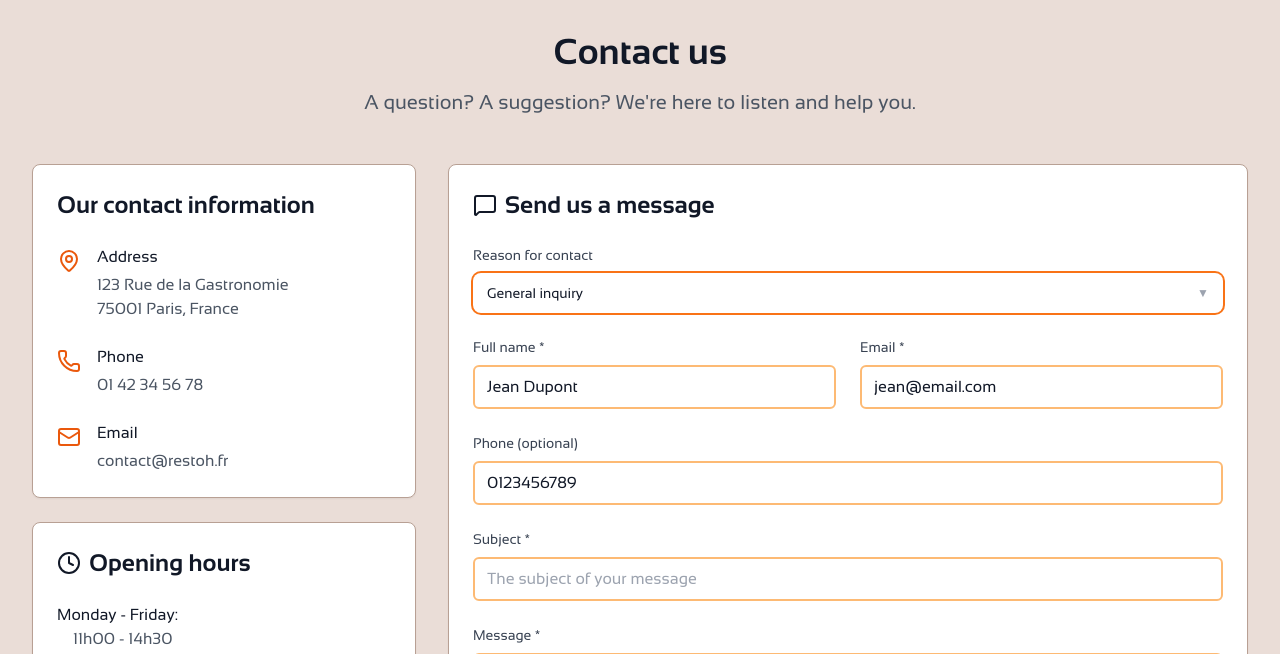
Test: Contact Component › should disable submit button when form is invalid
The width and height of the screenshot is (1280, 654).
Check: the field with placeholder "Your name" holds "Jean Dupont", box [473,365,836,409]
Type "Test subject" into the field with placeholder "The subject of your message" at (848, 579), box [473,557,1223,601]
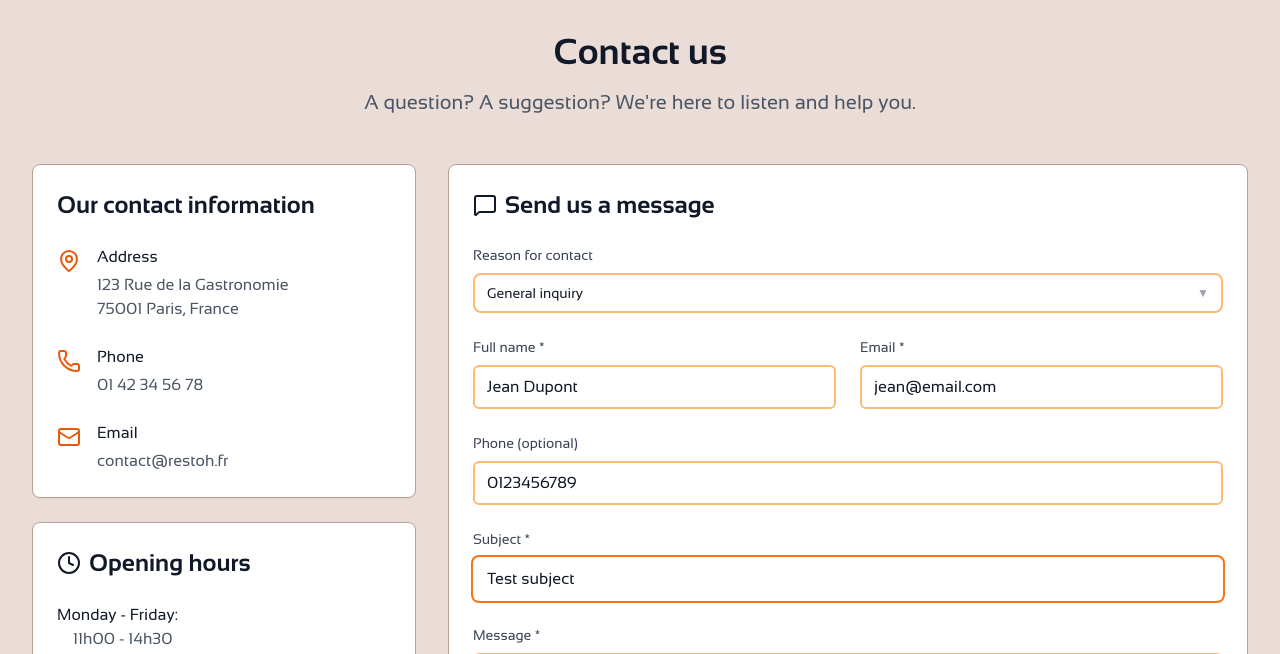
Press Tab
(page scrolled)
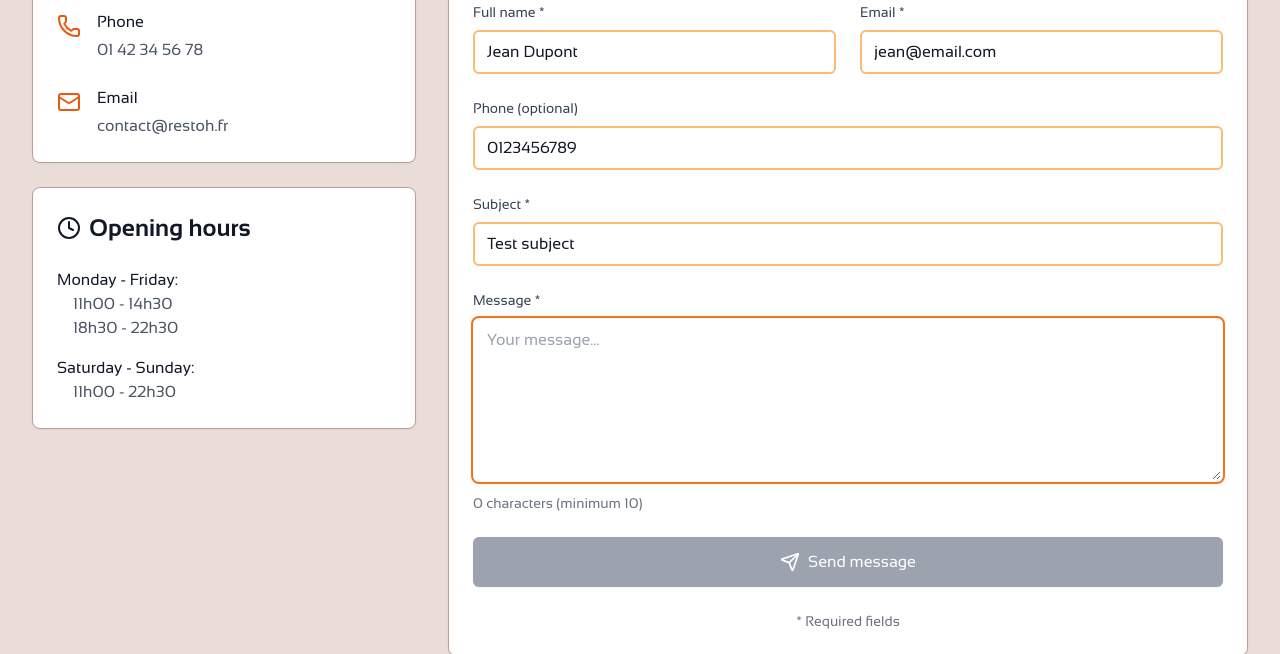
Type "Court" into the text box with placeholder "Your message..." at (848, 400), box [473,318,1223,482]
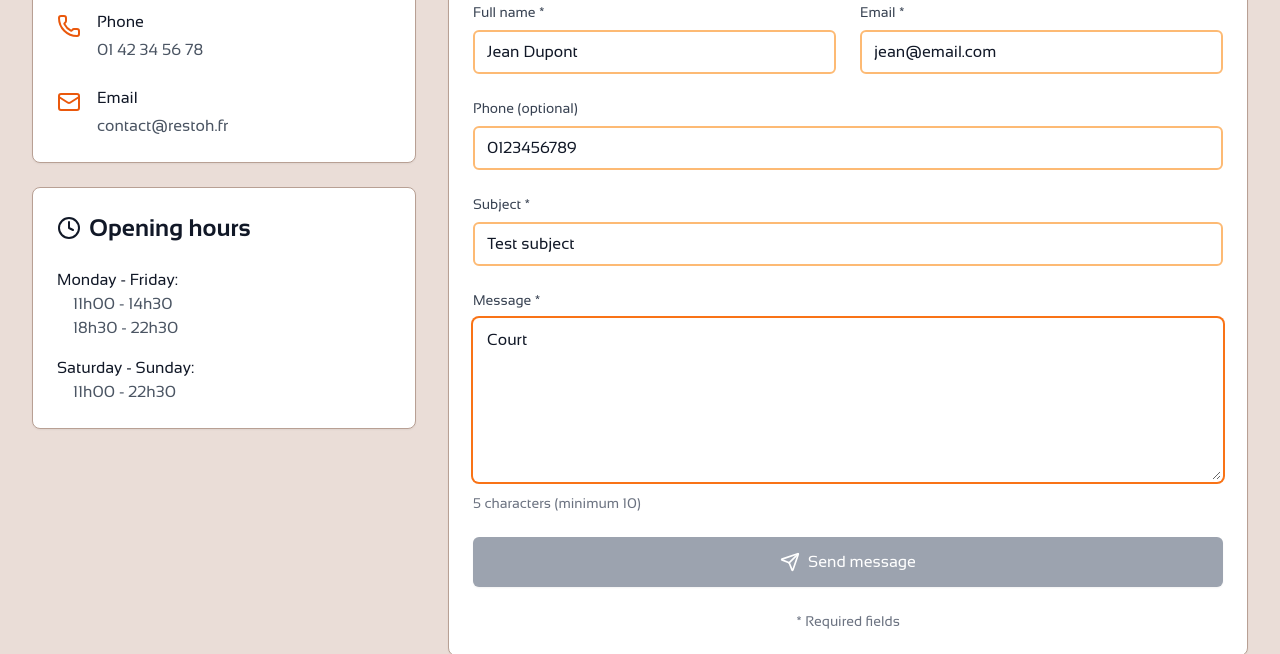
Press Tab
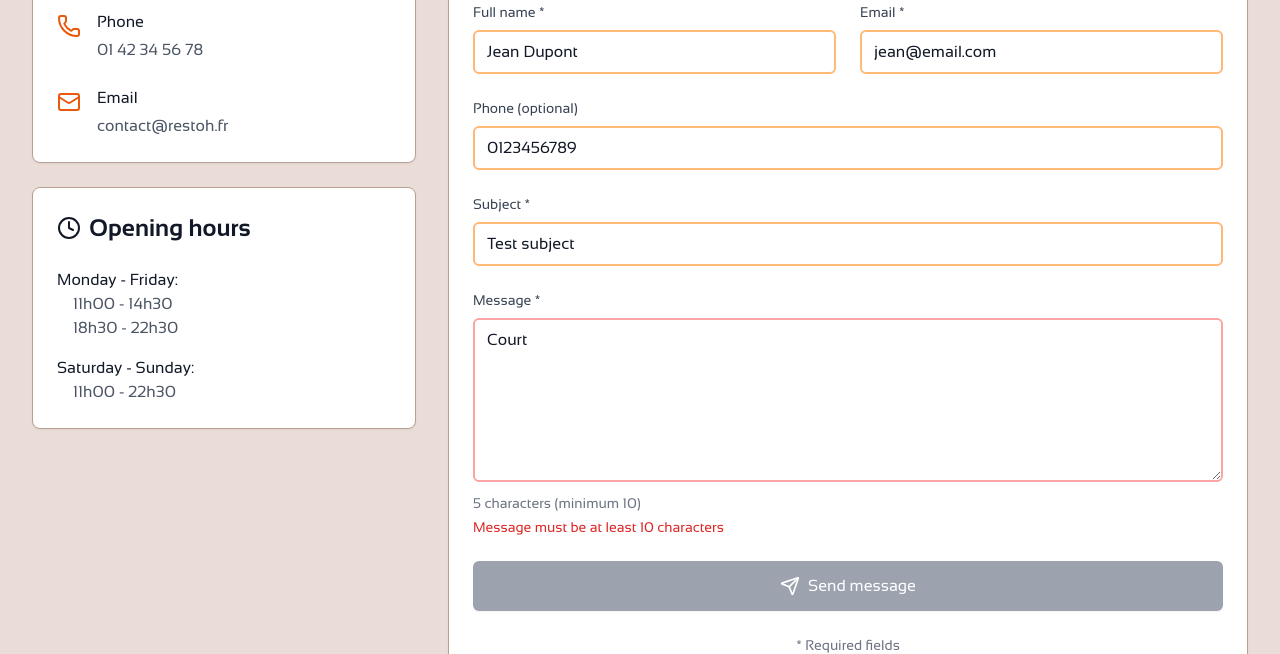
Check: the button "Send message" is disabled, box [473,561,1223,611]
// Complete the message to make it valid (clear and retype)
Replace the text in the text box with placeholder "Your message..." with "This is a valid message with enough characters" at (848, 400), box [473,318,1223,482]
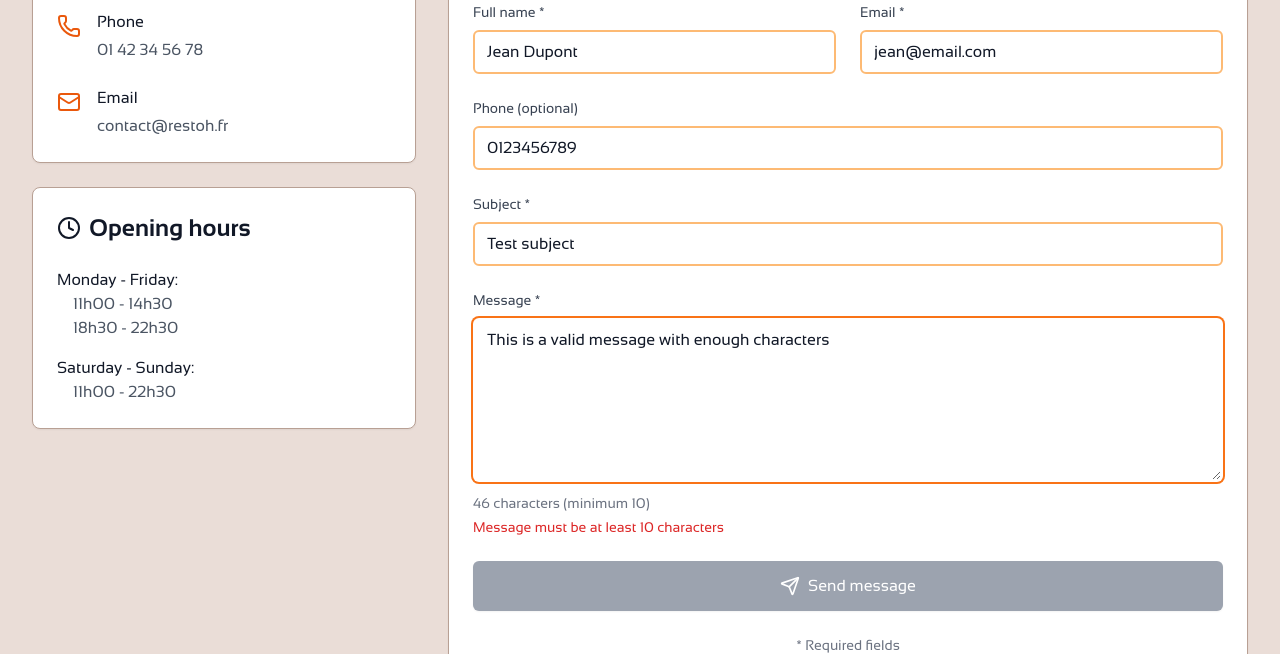
Press Tab
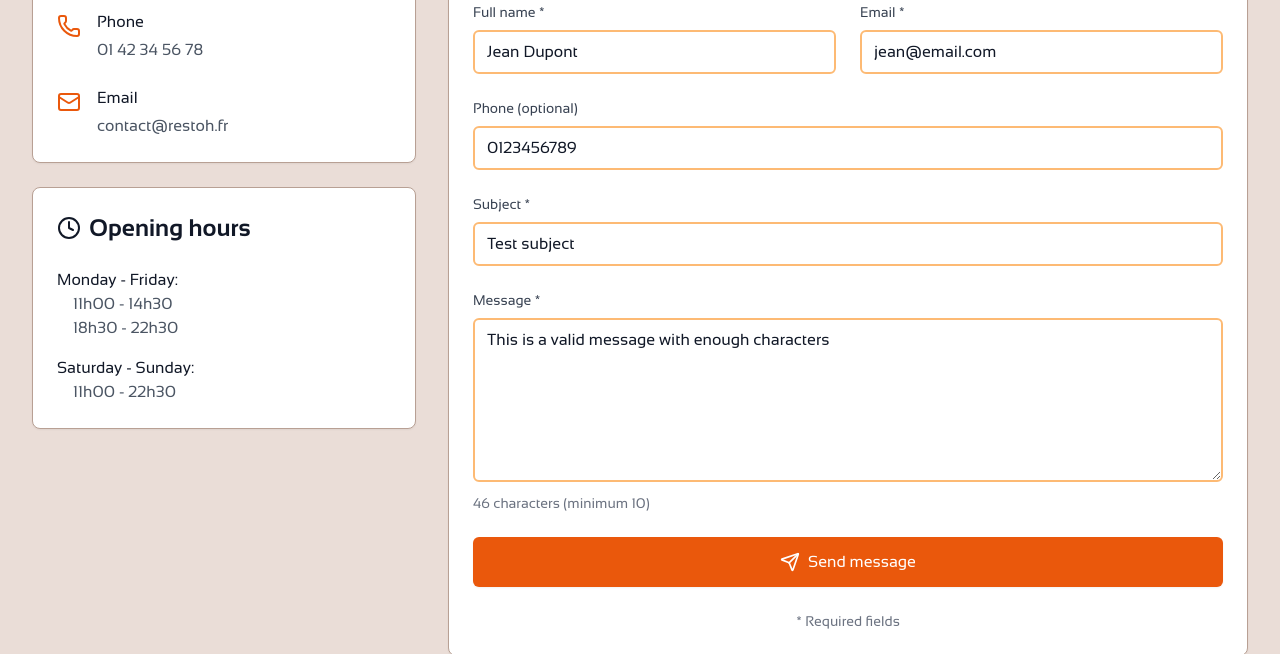
Check: the button "Send message" is enabled, box [473,537,1223,587]
